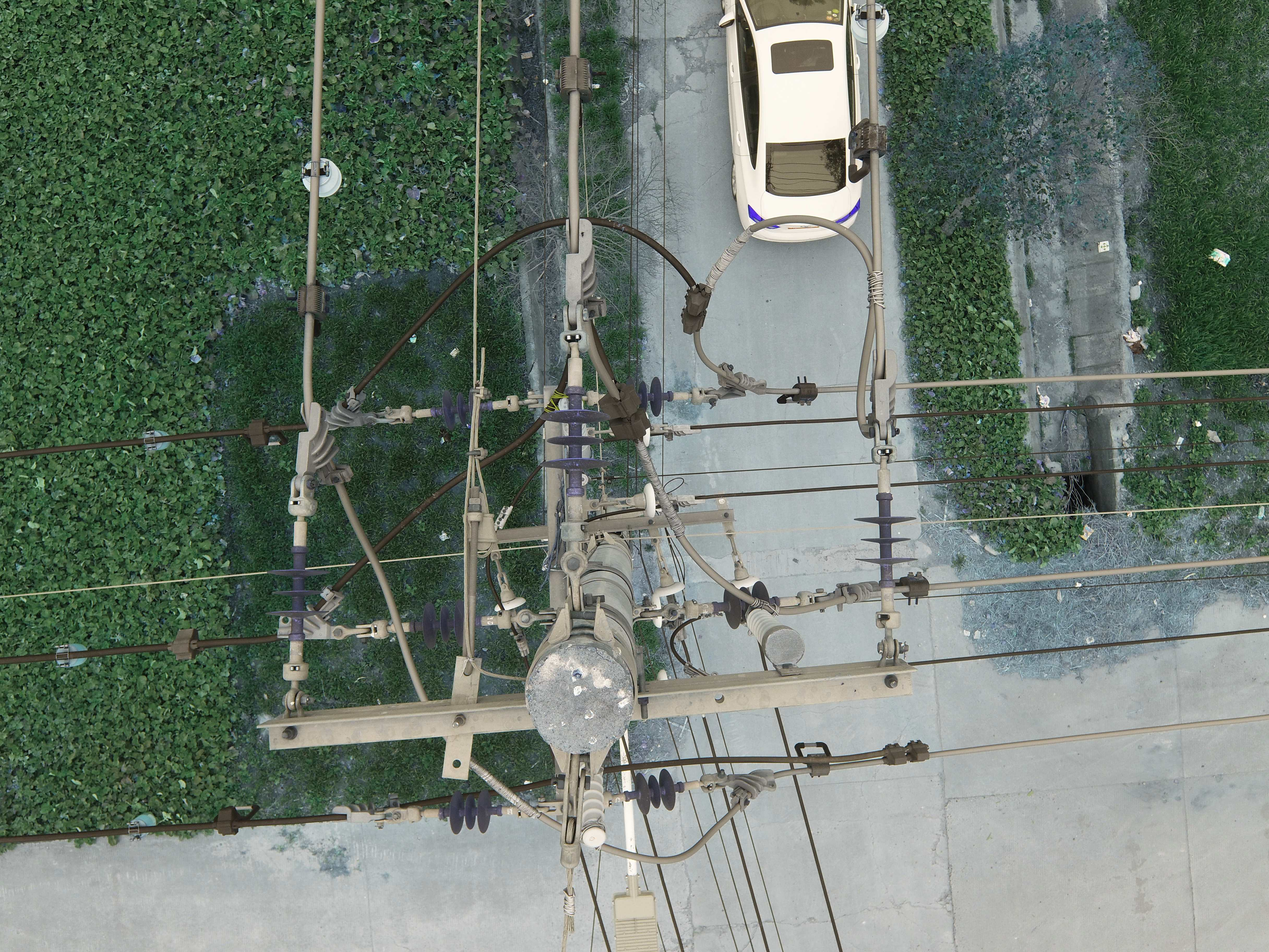severe_soiling_no_discharge_whole: (531, 392, 613, 492)
